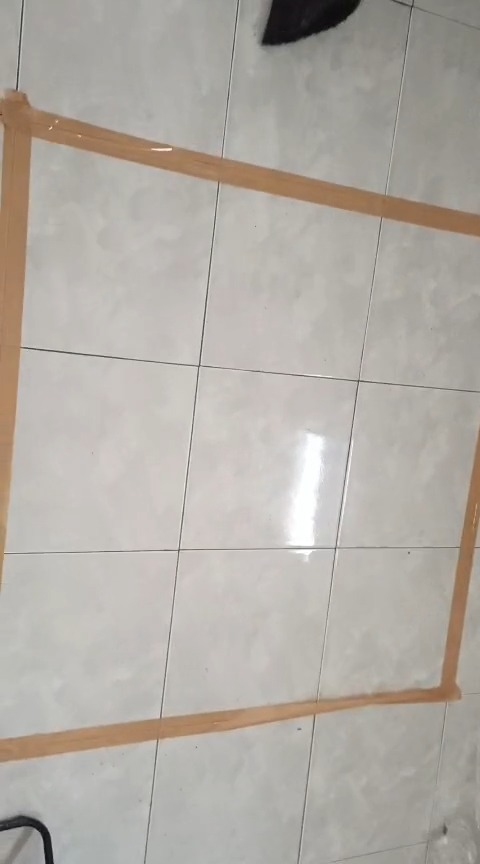floor marking: (0, 92, 479, 573), (0, 430, 479, 761)
